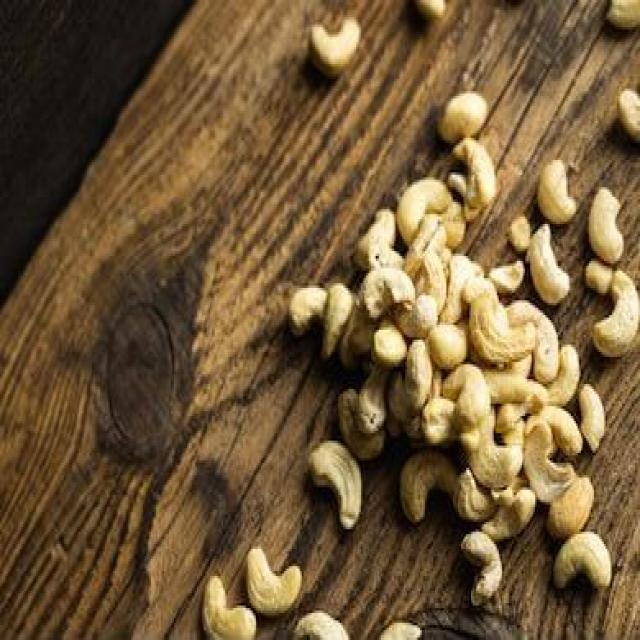cashew: (299, 0, 387, 79), (308, 444, 371, 532), (239, 539, 326, 599), (524, 134, 573, 220), (428, 66, 490, 132), (556, 531, 618, 593), (586, 172, 624, 256), (279, 272, 321, 347), (604, 266, 636, 360), (197, 586, 249, 639), (442, 368, 490, 420), (327, 274, 353, 338), (374, 319, 403, 373)
